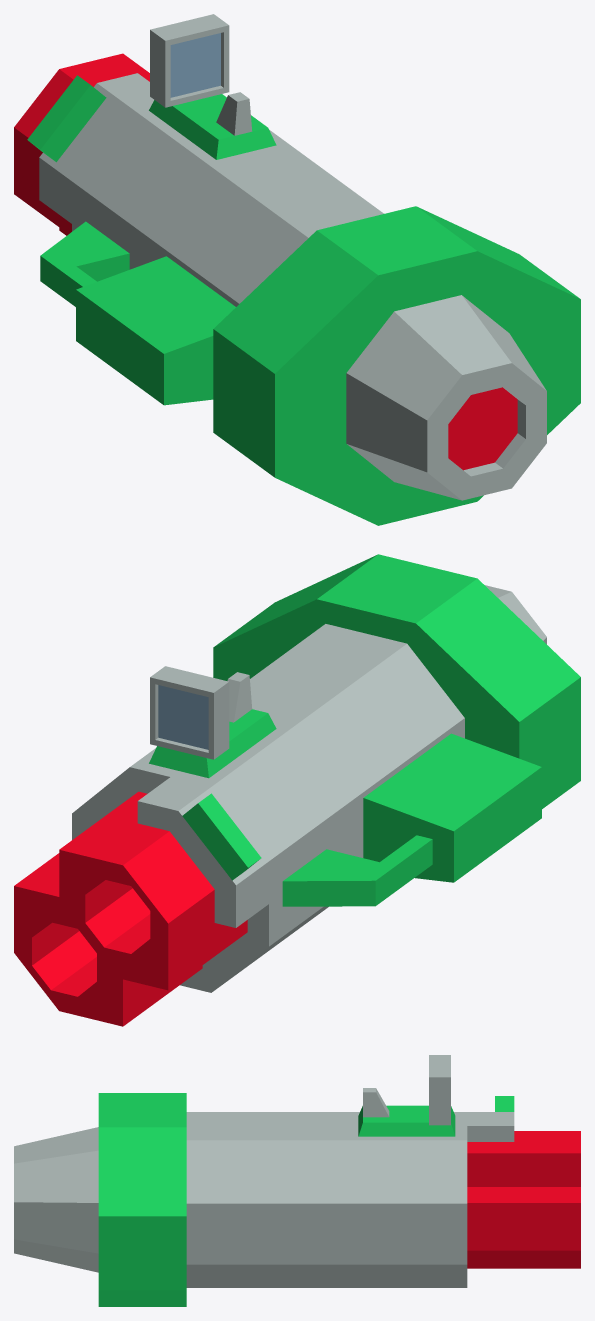
Rendered from GEAR_ROCKET02.fbx.
3 renders of one model, top to bottom at view 1: azimuth 30°, elevation 25°; view 2: azimuth 150°, elevation 25°; view 3: azimuth 270°, elevation 25°, orthographic. The views are drawn at different scales.
Visible parts, largest first — view 1: rocketlauncherModernRotating; view 2: rocketlauncherModernRotating; view 3: rocketlauncherModernRotating.
Boxes of the visible parts, bbox=[...] form: rocketlauncherModernRotating: bbox=[14, 14, 580, 525]; rocketlauncherModernRotating: bbox=[14, 554, 580, 1026]; rocketlauncherModernRotating: bbox=[14, 1055, 580, 1306].
Size of the model in its own units: 1164 by 1014 by 2334.
